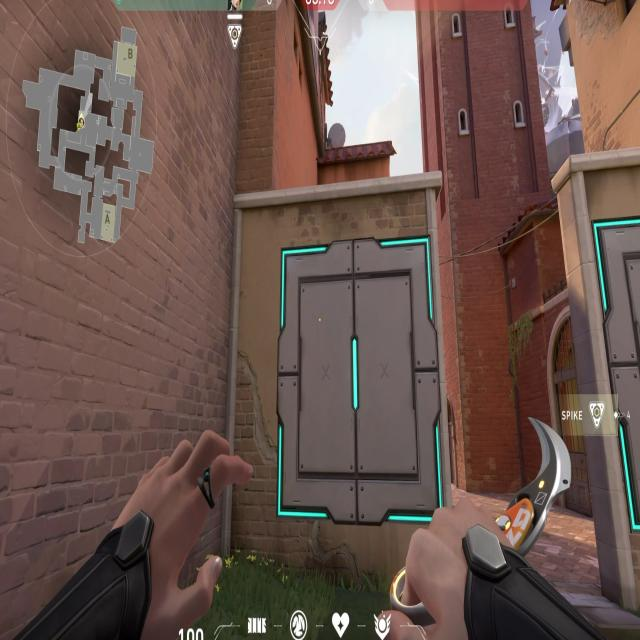Mid_Wall: (276, 233, 435, 524)
